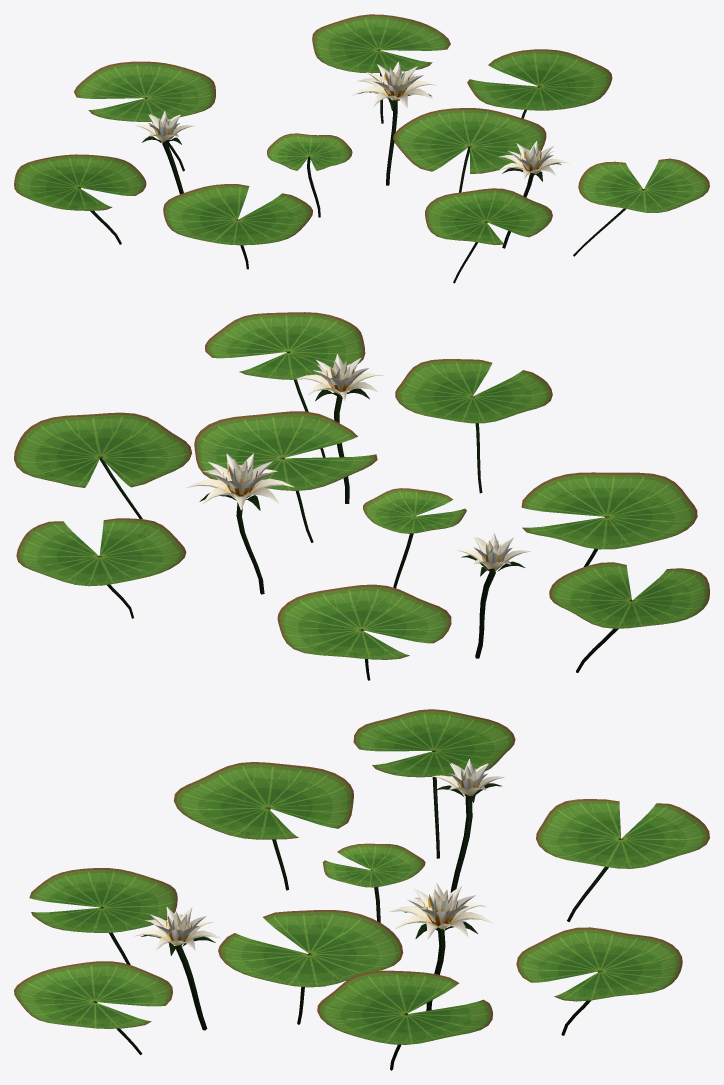
3 renders of one model, top to bottom at view 1: azimuth 30°, elevation 25°; view 2: azimuth 150°, elevation 25°; view 3: azimuth 270°, elevation 25°, orthographic. The views are drawn at different scales.
Parts seen in each view (by area): view 1: Mesh_LilyPads, Mesh_LilyBlooms, Mesh_LilyStems; view 2: Mesh_LilyPads, Mesh_LilyBlooms, Mesh_LilyStems; view 3: Mesh_LilyPads, Mesh_LilyBlooms, Mesh_LilyStems.
Part boxes in pixels (x1=…): Mesh_LilyPads: x1=14, y1=14, x2=709, y2=245; Mesh_LilyBlooms: x1=134, y1=61, x2=568, y2=178; Mesh_LilyStems: x1=79, y1=50, x2=643, y2=283; Mesh_LilyPads: x1=14, y1=312, x2=709, y2=659; Mesh_LilyBlooms: x1=187, y1=354, x2=530, y2=571; Mesh_LilyStems: x1=98, y1=352, x2=632, y2=680; Mesh_LilyPads: x1=14, y1=709, x2=709, y2=1044; Mesh_LilyBlooms: x1=134, y1=759, x2=505, y2=950; Mesh_LilyStems: x1=94, y1=751, x2=621, y2=1070.
Size of the model in its own units: 2.29 by 0.4152 by 2.01.
3 materials, 3 textured.
